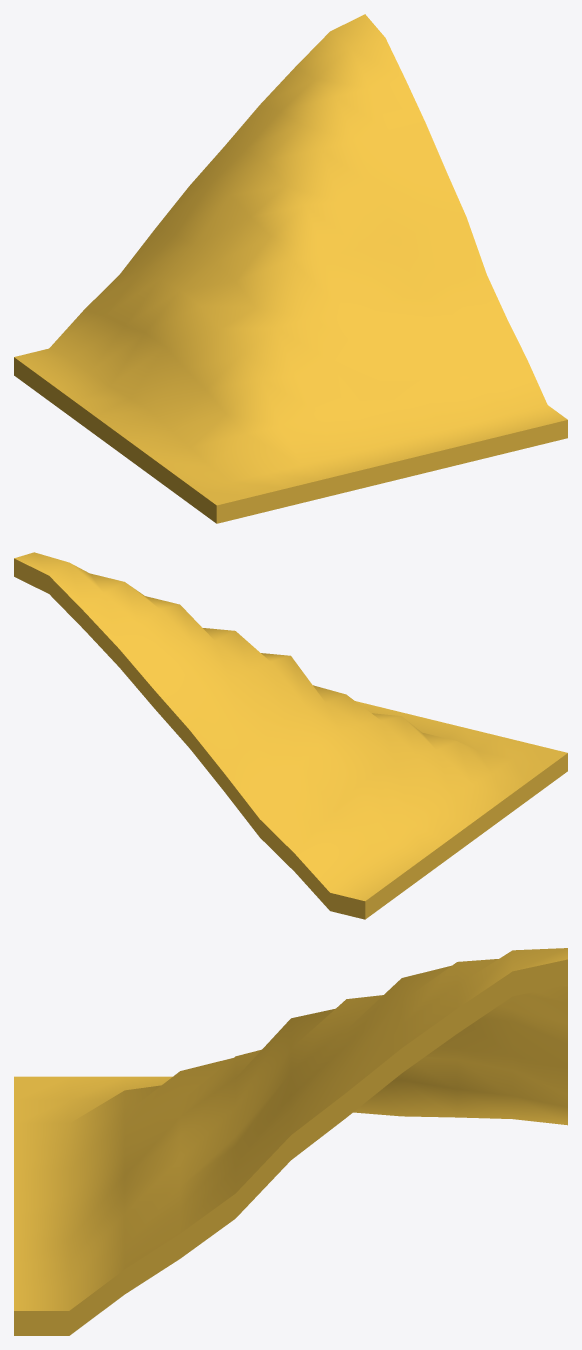
File: Steil - Mitte - Ecke x - a.fbx
The picture shows the model from 3 angles, top to bottom: view 1: azimuth 30°, elevation 25°; view 2: azimuth 150°, elevation 25°; view 3: azimuth 270°, elevation 25°; orthographic projection. The views are drawn at different scales.
Parts seen in each view (by area): view 1: Steil - Mitte - Ecke x - a; view 2: Steil - Mitte - Ecke x - a; view 3: Steil - Mitte - Ecke x - a.
Boxes of the visible parts, x1,y1,x2,y2 form: Steil - Mitte - Ecke x - a: (14,14,567,523); Steil - Mitte - Ecke x - a: (14,552,567,919); Steil - Mitte - Ecke x - a: (14,948,567,1335).
Size of the model in its own units: 394 by 295 by 394.
